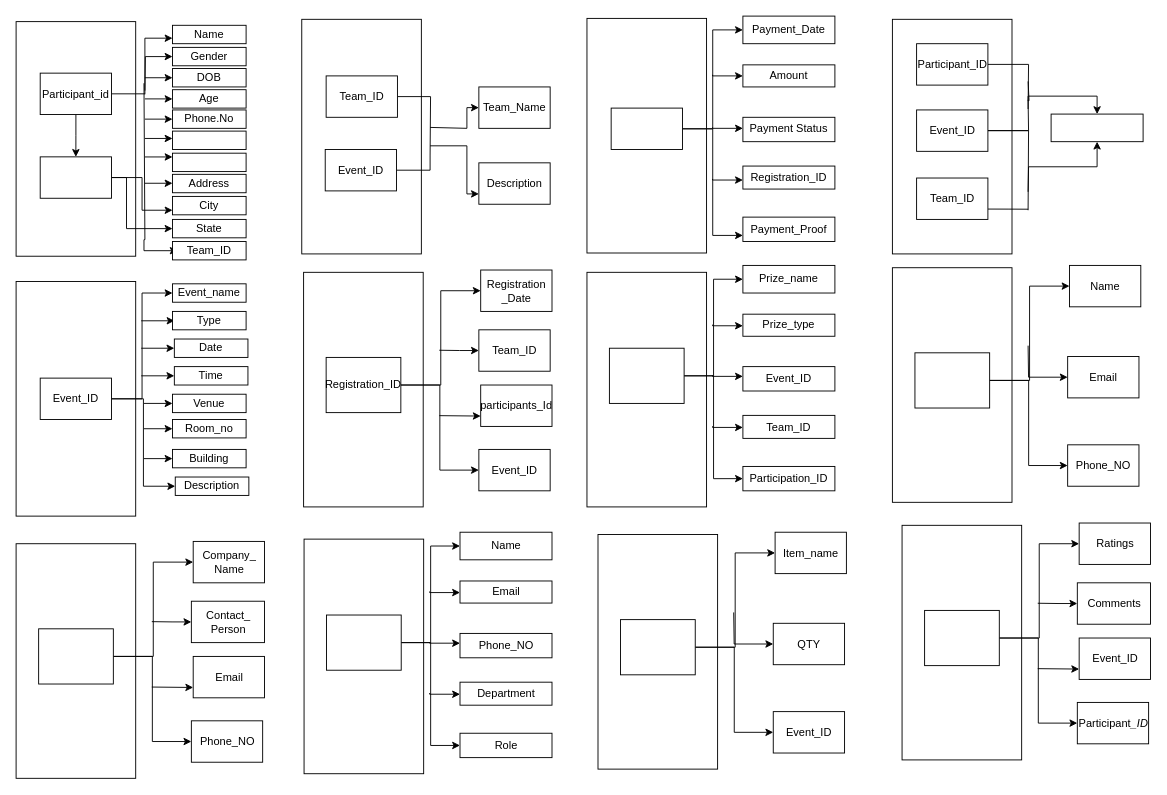
Some shapes in this 1167 by 795 pixel diagram are drawn without their labels. Each missing label, with the centre of its shape:
Branch: the point at 209,140
Certification_TYpe: the point at 1096,127
College: the point at 209,162
Coordinator_ID: the point at 363,642
Feedback_ID: the point at 961,638
Inventory_ID: the point at 657,647
Judge_ID: the point at 952,380
Payment_ID: the point at 646,128
Pincode: the point at 75,177
Prize_id: the point at 646,375
Sponser_ID: the point at 75,656
